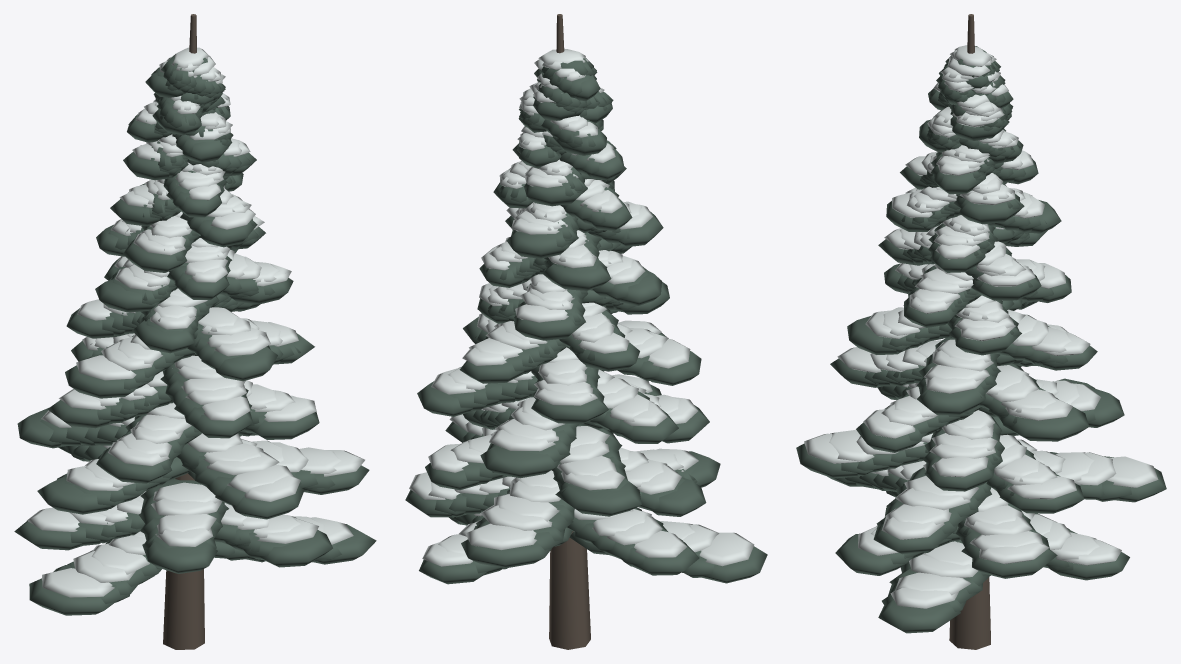
File: SnowPine2.glb
3 renders of one model, left to right at view 1: azimuth 30°, elevation 25°; view 2: azimuth 150°, elevation 25°; view 3: azimuth 270°, elevation 25°, orthographic.
Bounding box in the file's own units: 1.94 × 3.5 × 1.87.
